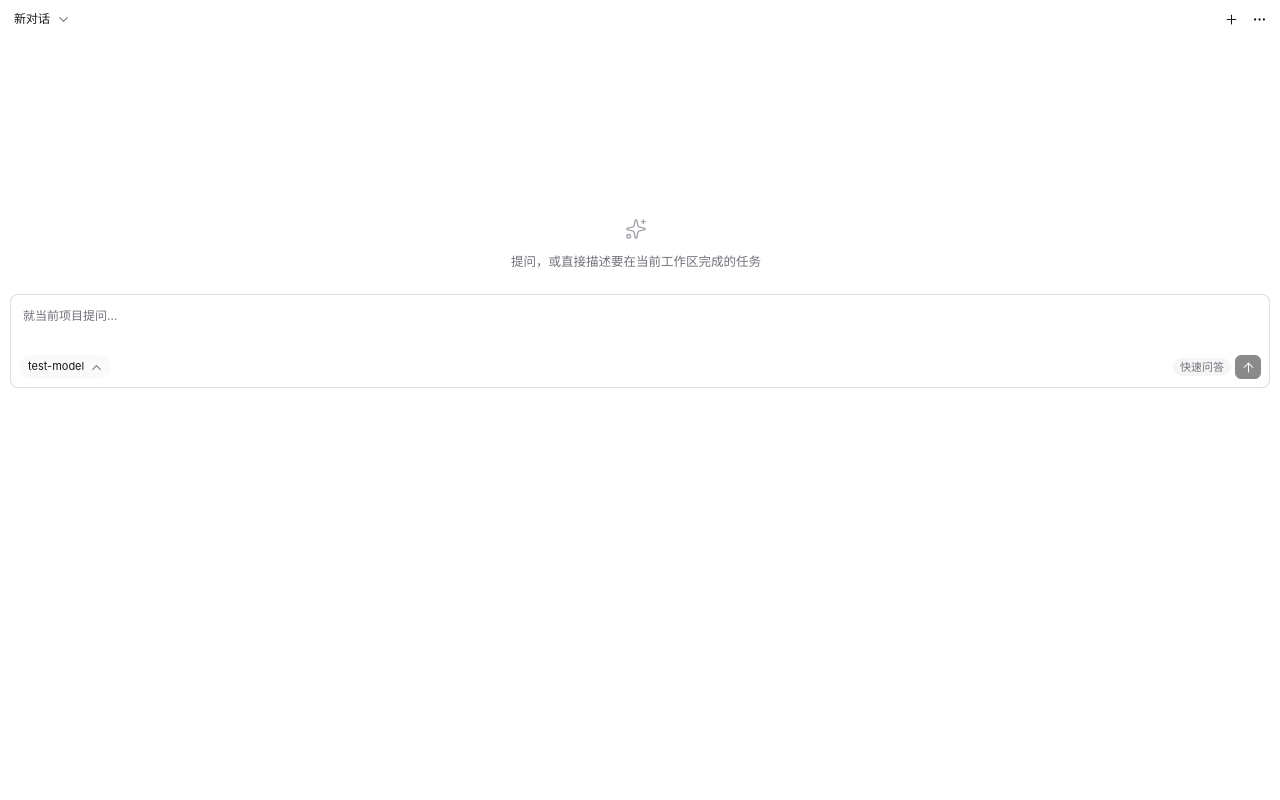
recalls the key filed for this endpoint instead of asking for it again
Type "解释这个结论" into the text box named "向 AI 提问" at (640, 329), box x1=19 y1=303 x2=1261 y2=355
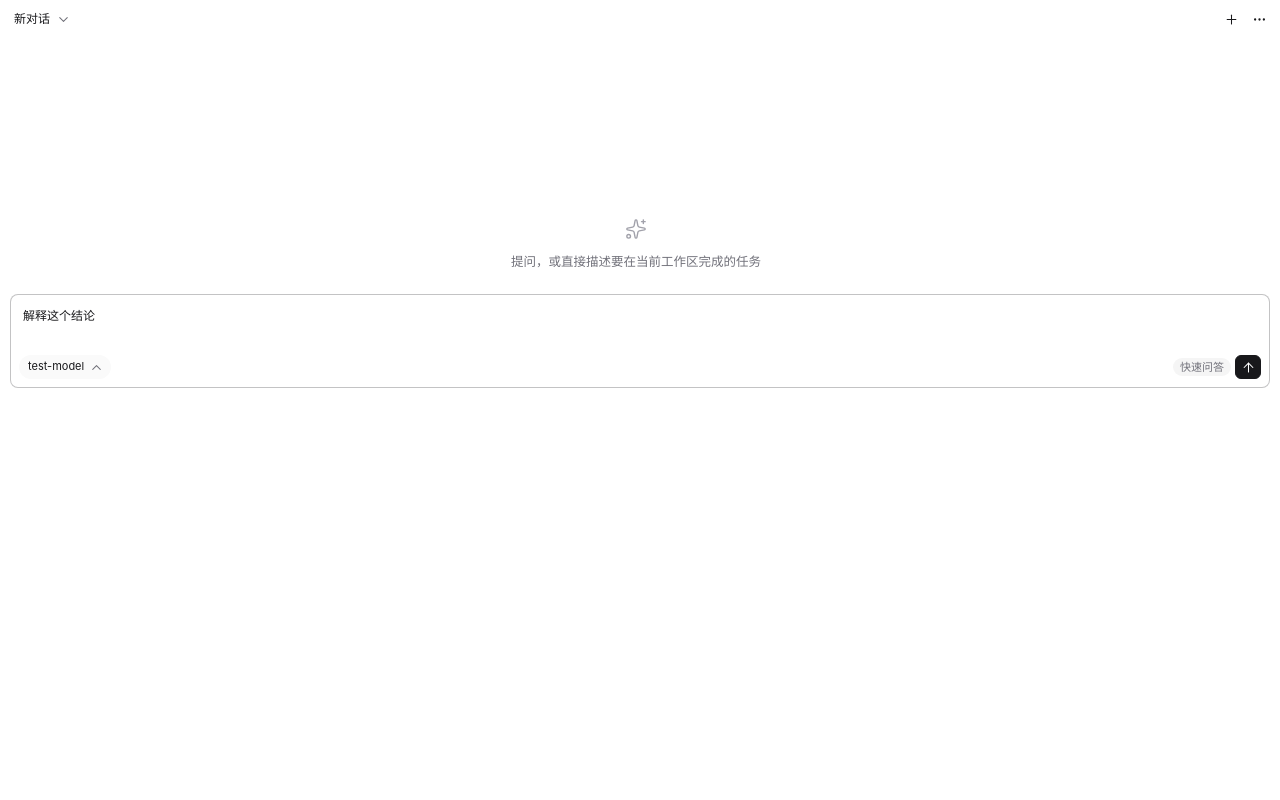
Click the button named "发送" at (1248, 367), box x1=1235 y1=355 x2=1261 y2=379
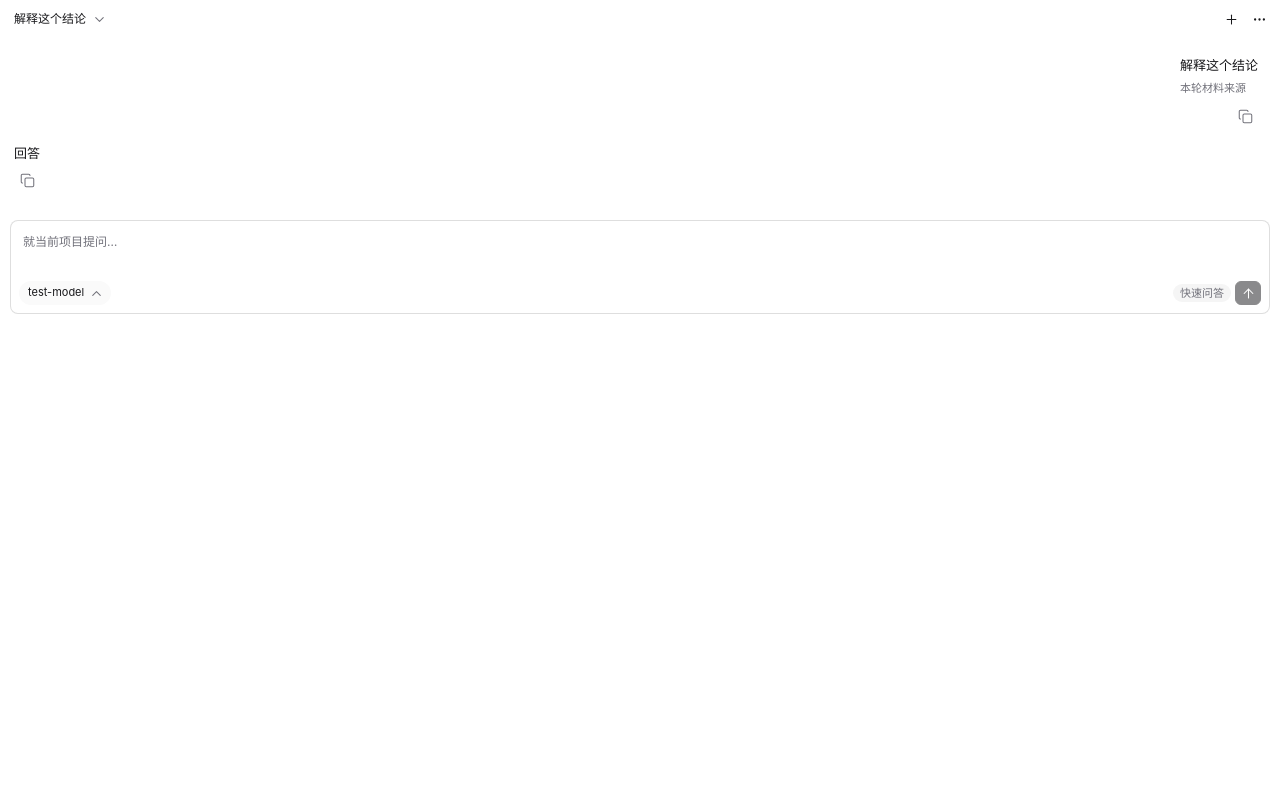
# The settings dialog must show the recalled key rather than an empty field.
Click the button named "对话选项" at (1259, 19), box x1=1246 y1=6 x2=1272 y2=32
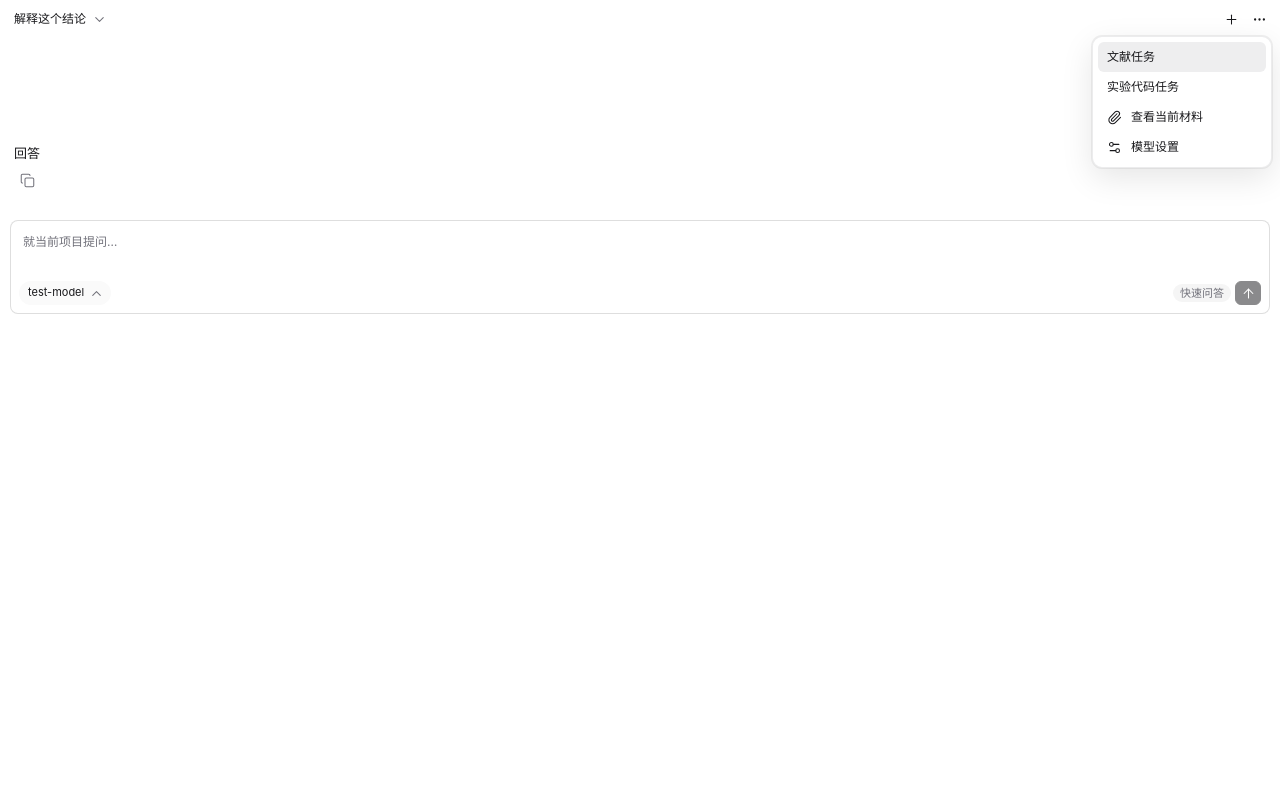
Click the menu item "模型设置" at (1182, 147), box x1=1098 y1=132 x2=1266 y2=162
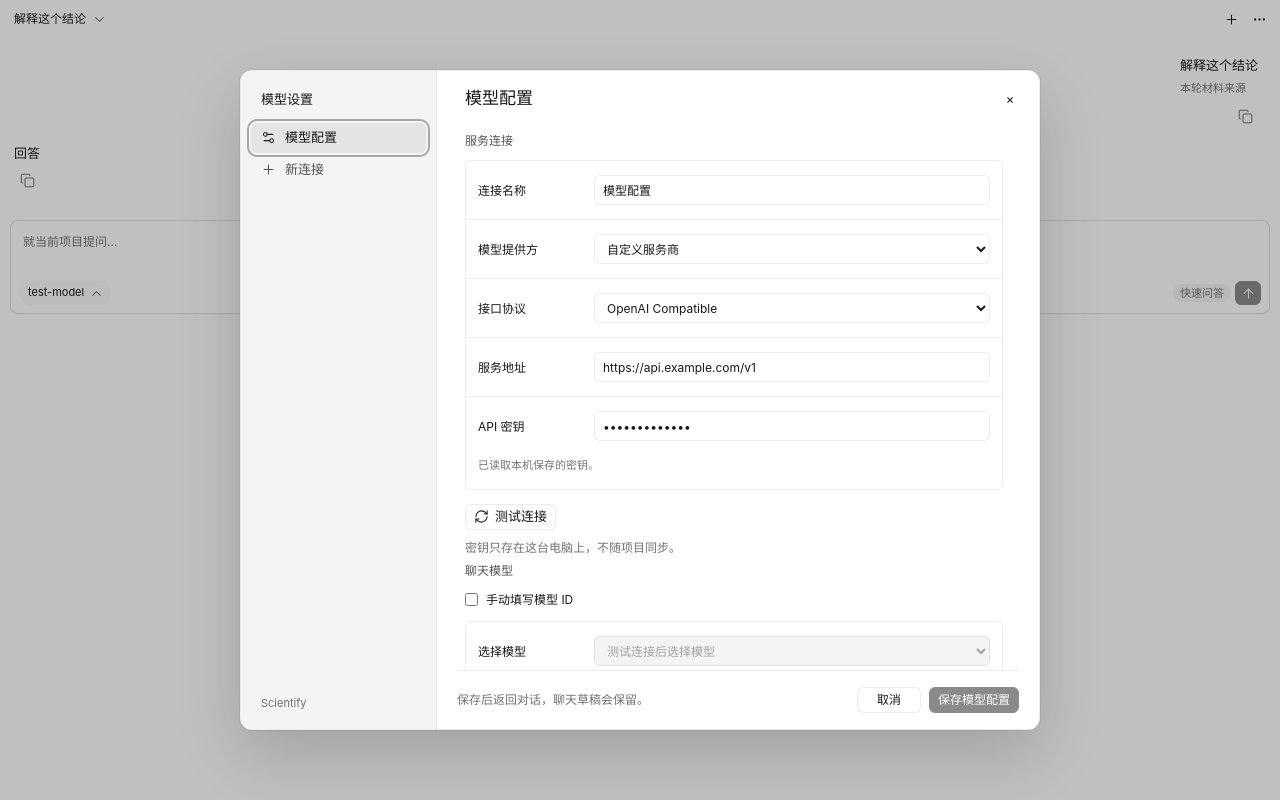
Now the password field labelled "API 密钥" holds "stored-secret", box x1=594 y1=411 x2=990 y2=441
Now the text "已读取本机保存的密钥。" is shown, box x1=478 y1=458 x2=599 y2=472
